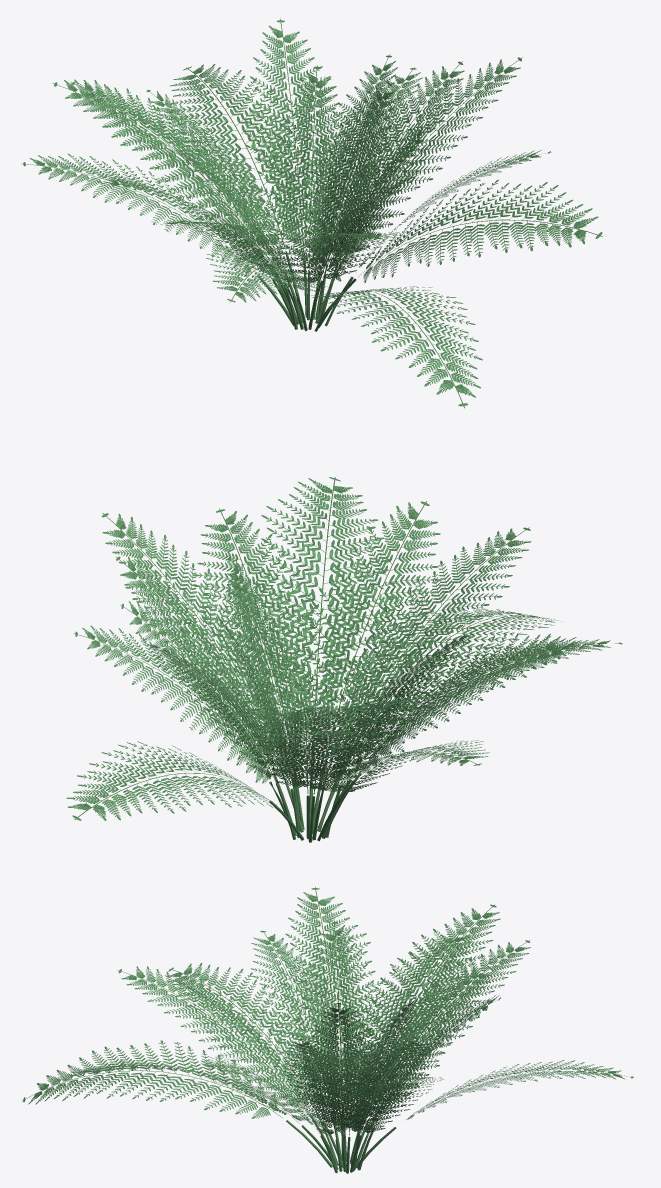
Rendered from lady_fern_v02.fbx.
3 views of the same model, one above another, from view 1: azimuth 30°, elevation 25°; view 2: azimuth 150°, elevation 25°; view 3: azimuth 270°, elevation 25° (orthographic). The views are drawn at different scales.
Parts seen in each view (by area): view 1: lady_fern_v02; view 2: lady_fern_v02; view 3: lady_fern_v02.
Boxes of the visible parts, left/top/right/bottom form: lady_fern_v02: left=21, top=18, right=602, bottom=408; lady_fern_v02: left=66, top=477, right=622, bottom=842; lady_fern_v02: left=21, top=887, right=633, bottom=1173.
Bounding box in the file's own units: 102 × 140 × 50.49.
2 materials, 2 textured.
